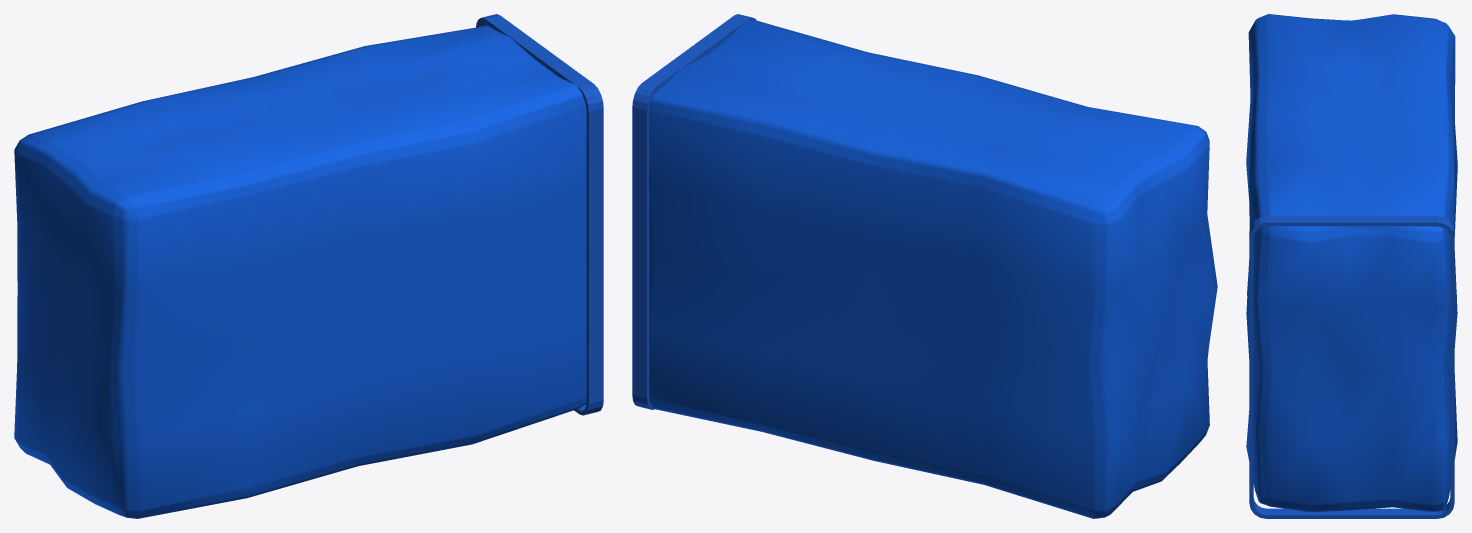
File: Battery_LOD0.glb
3 views of the same model, side by side, from view 1: azimuth 30°, elevation 25°; view 2: azimuth 150°, elevation 25°; view 3: azimuth 270°, elevation 25° (orthographic). The views are drawn at different scales.
Visible parts, largest first — view 1: Battery.001; view 2: Battery.001; view 3: Battery.001.
Part boxes in pixels (x1,y1,x2,y2): Battery.001: (14, 14, 603, 518); Battery.001: (632, 14, 1217, 518); Battery.001: (1246, 14, 1457, 518).
Bounding box in the file's own units: 0.1478 × 0.0949 × 0.0609.
